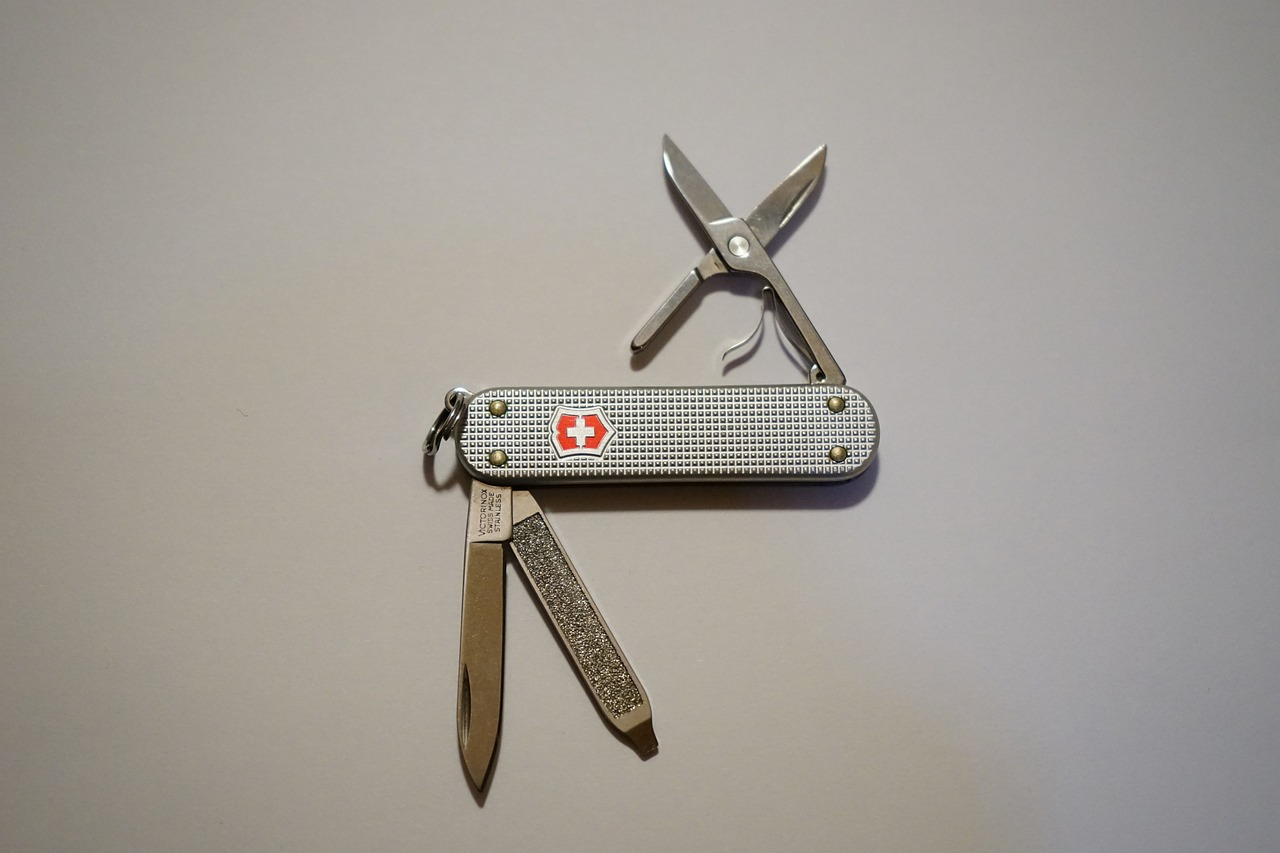knife: (434, 476, 515, 814)
